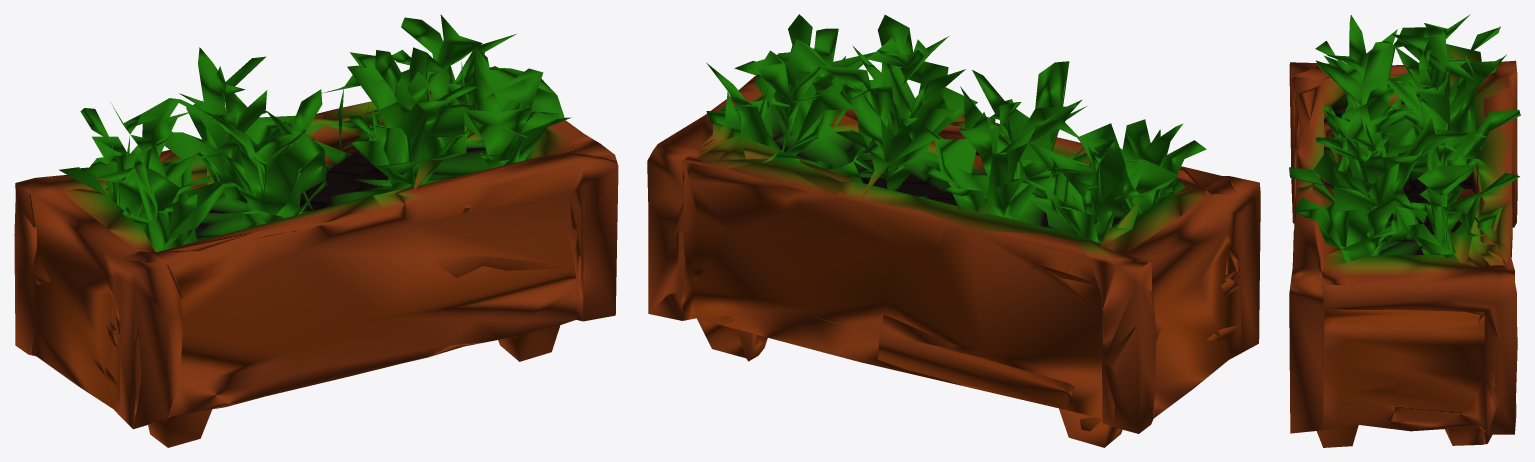
File: gen3d-planter-box-lod0.glb
The picture shows the model from 3 angles, left to right: view 1: azimuth 30°, elevation 25°; view 2: azimuth 150°, elevation 25°; view 3: azimuth 270°, elevation 25°; orthographic projection. The views are drawn at different scales.
Visible parts, largest first — view 1: part_0; view 2: part_0; view 3: part_0.
Part boxes in pixels (x1,y1,x2,y2): part_0: (14, 14, 618, 447); part_0: (647, 14, 1260, 447); part_0: (1289, 14, 1520, 447).
Bounding box in the file's own units: 1.68 × 0.999 × 0.7381.
